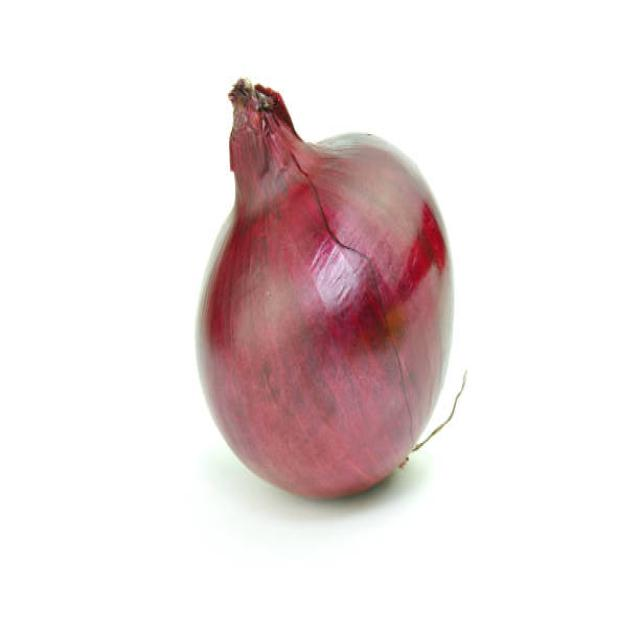onion: (182, 127, 454, 501)
